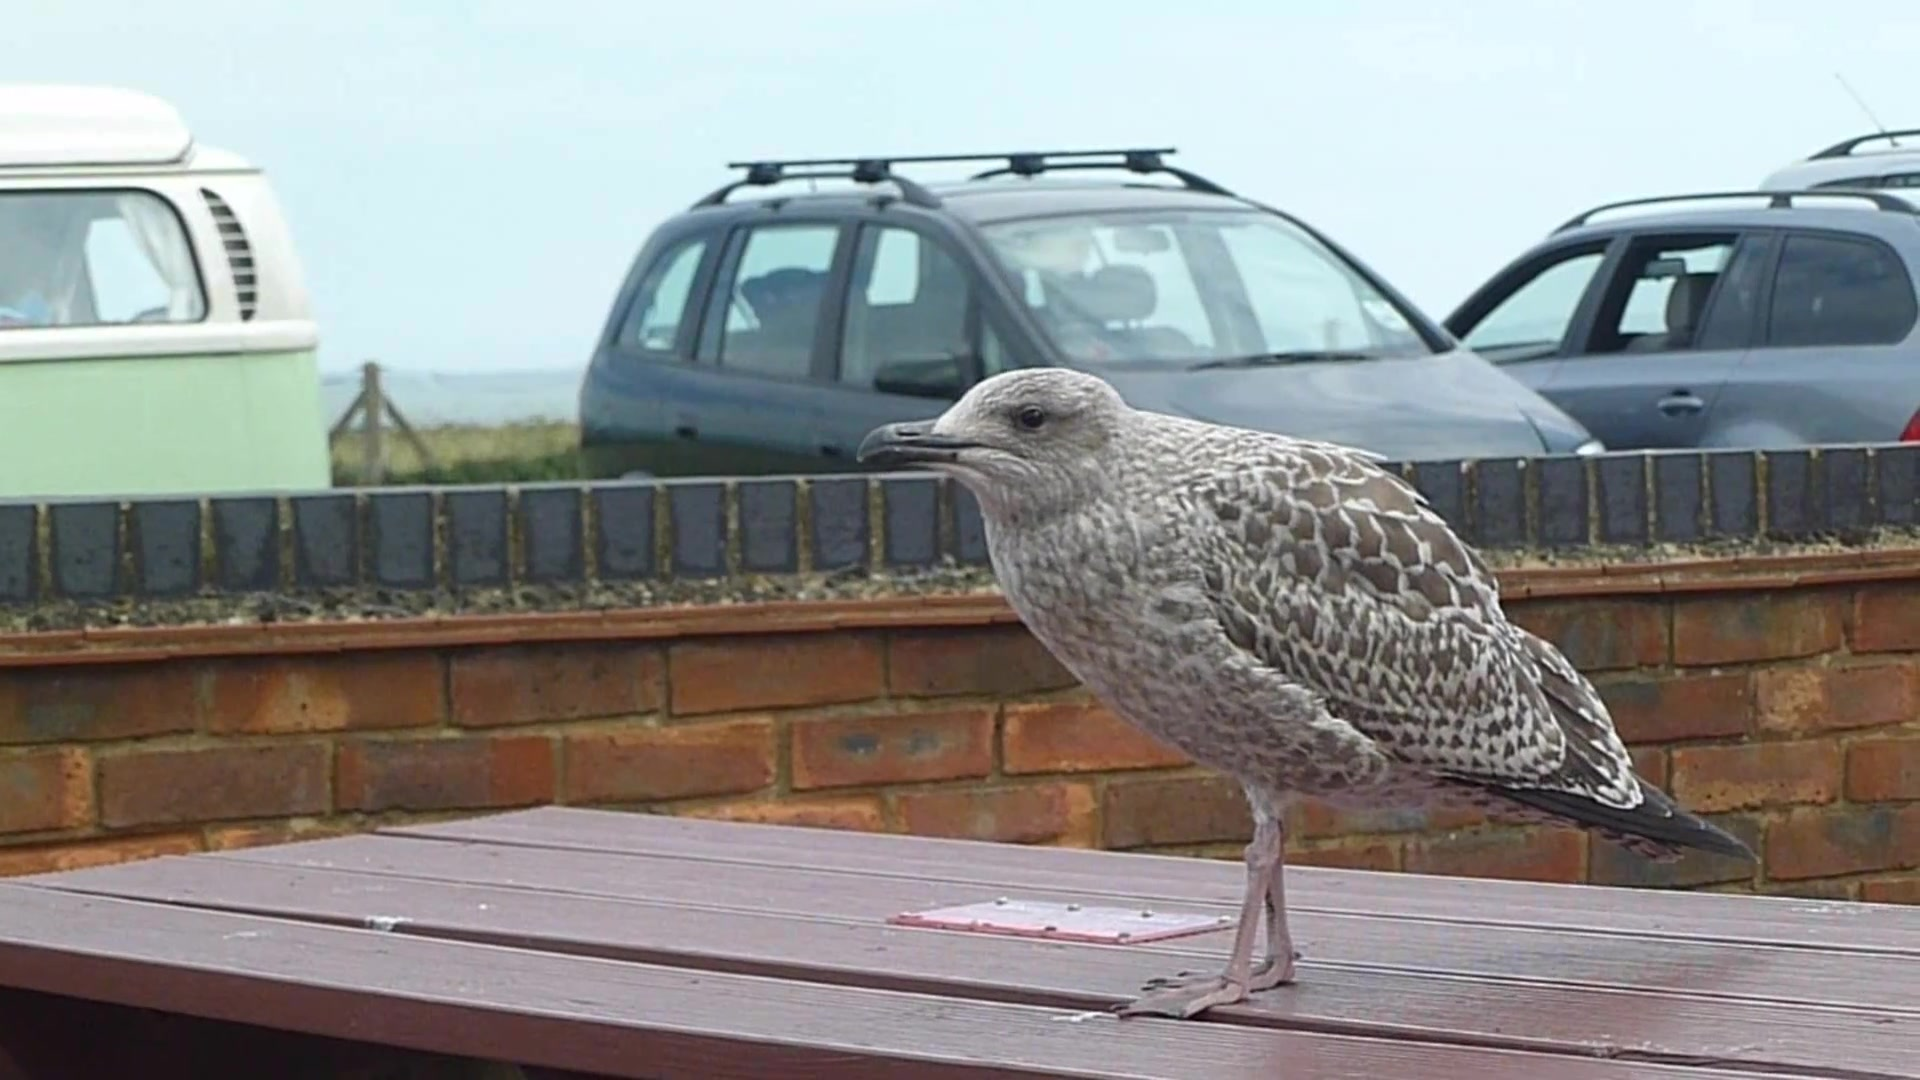bird: (853, 365, 1766, 1021)
